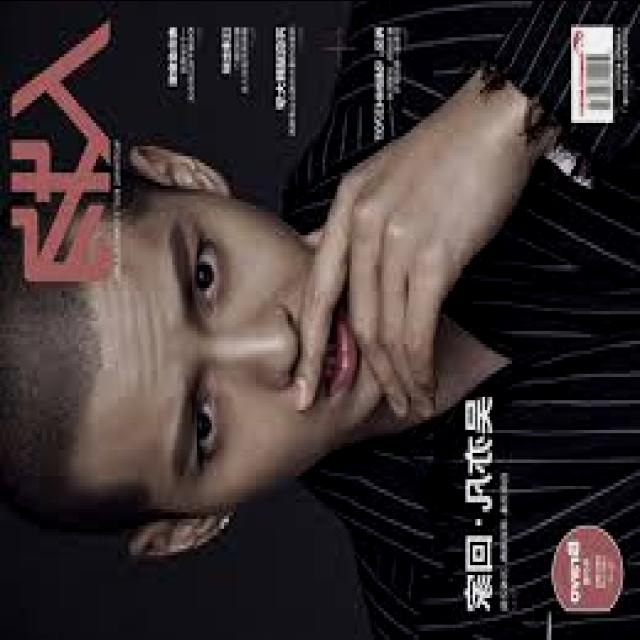paper: (0, 3, 640, 640)
